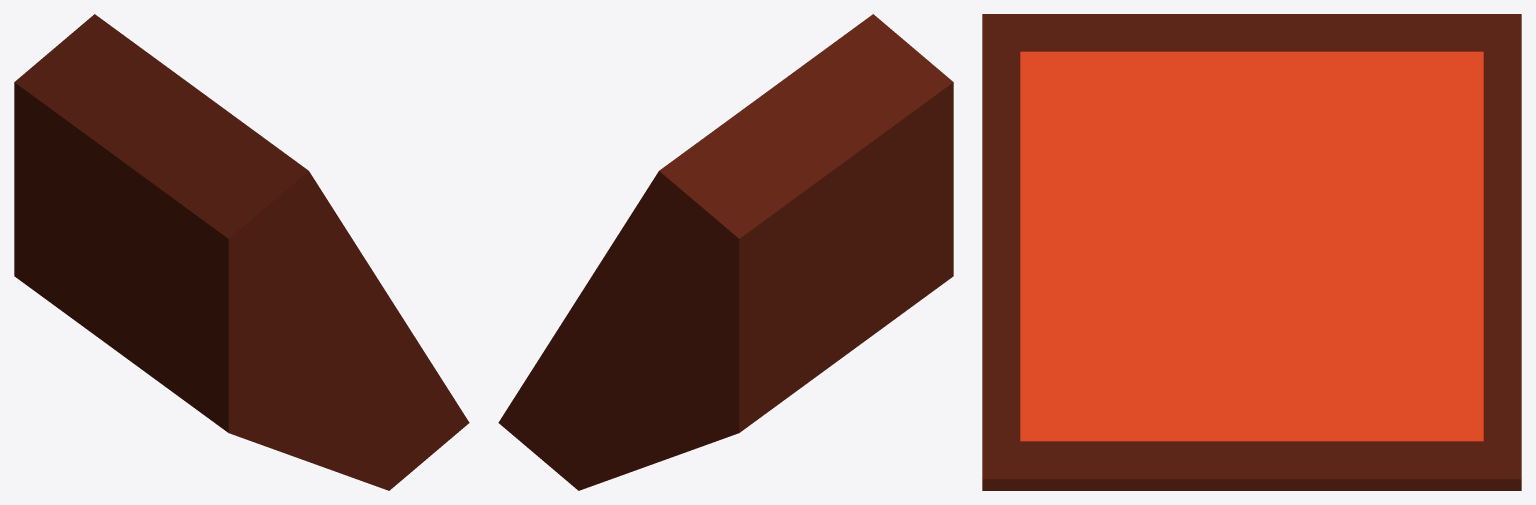
File: trunk_chopped_half.obj
The picture shows the model from 3 angles, left to right: view 1: azimuth 30°, elevation 25°; view 2: azimuth 150°, elevation 25°; view 3: azimuth 270°, elevation 25°; orthographic projection. The views are drawn at different scales.
Parts seen in each view (by area): view 1: trunk_chopped_half_Cylinder.009; view 2: trunk_chopped_half_Cylinder.009; view 3: trunk_chopped_half_Cylinder.009.
Part boxes in pixels (x1=…): trunk_chopped_half_Cylinder.009: x1=14, y1=14, x2=469, y2=490; trunk_chopped_half_Cylinder.009: x1=498, y1=14, x2=953, y2=490; trunk_chopped_half_Cylinder.009: x1=982, y1=14, x2=1521, y2=490.
Size of the model in its own units: 1.3 by 1.75 by 2.
